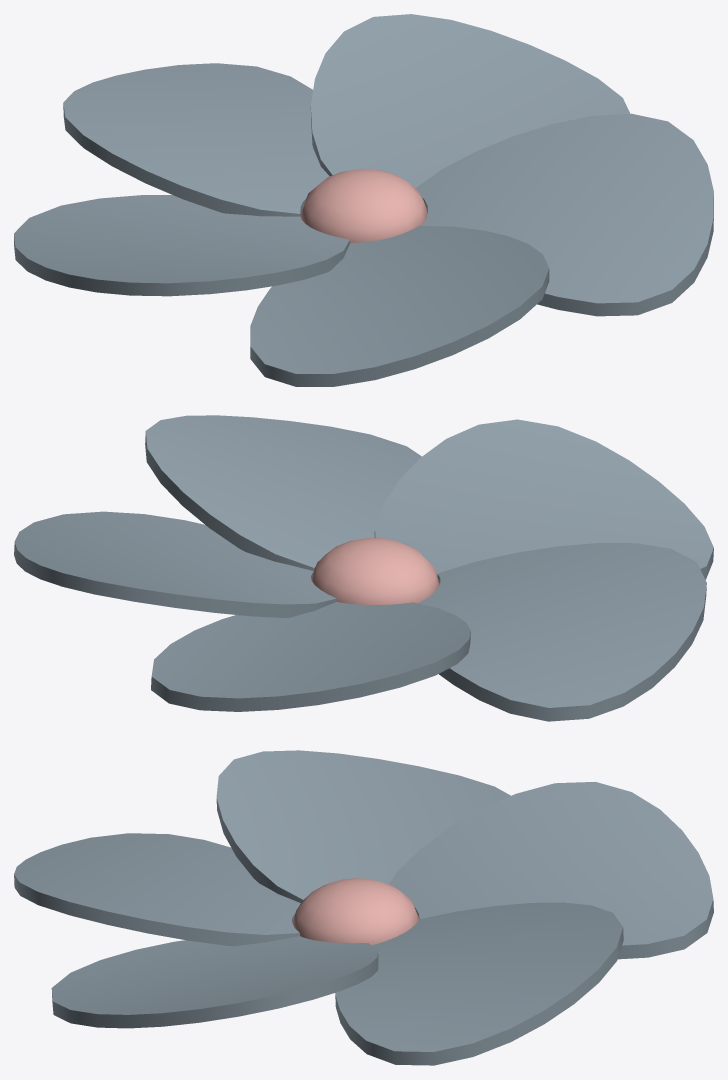
The model's file is BlueFlower.fbx.
The picture shows the model from 3 angles, top to bottom: view 1: azimuth 30°, elevation 25°; view 2: azimuth 150°, elevation 25°; view 3: azimuth 270°, elevation 25°; orthographic projection.
Visible parts, largest first — view 1: group5; view 2: group5; view 3: group5.
Boxes of the visible parts, bbox=[...] form: group5: bbox=[14, 14, 713, 386]; group5: bbox=[14, 415, 713, 721]; group5: bbox=[14, 750, 713, 1065].
Size of the model in its own units: 5.77 by 0.8471 by 5.78.
